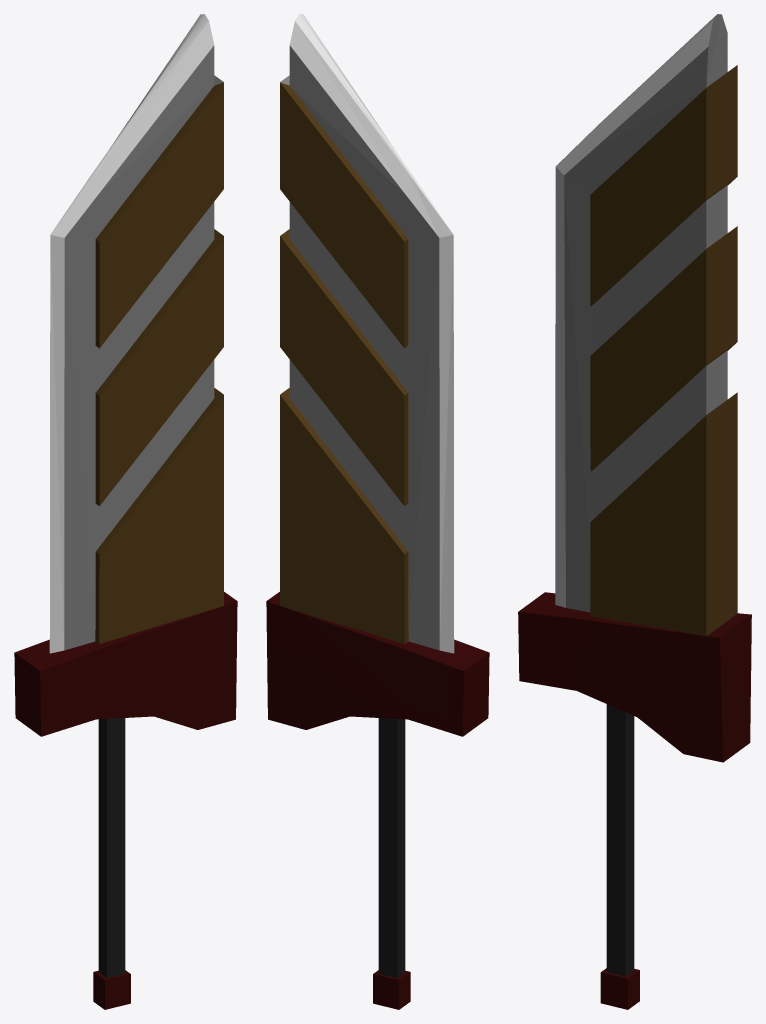
File: Sword.fbx
3 renders of one model, left to right at view 1: azimuth 30°, elevation 25°; view 2: azimuth 150°, elevation 25°; view 3: azimuth 330°, elevation 25°, orthographic. The views are drawn at different scales.
Visible parts, largest first — view 1: Sword; view 2: Sword; view 3: Sword.
Boxes of the visible parts, x1,y1,x2,y2 form: Sword: [14, 14, 237, 1009]; Sword: [266, 14, 489, 1009]; Sword: [518, 14, 751, 1009].
Bounding box in the file's own units: 52.54 × 14.24 × 248.
